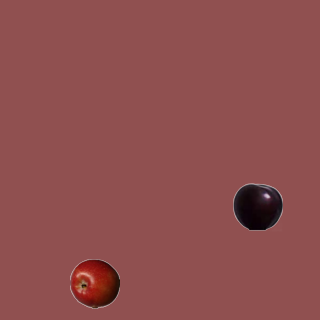Apple Braeburn: (69, 258, 119, 308)
Cherry Wax Black: (232, 181, 282, 231)
